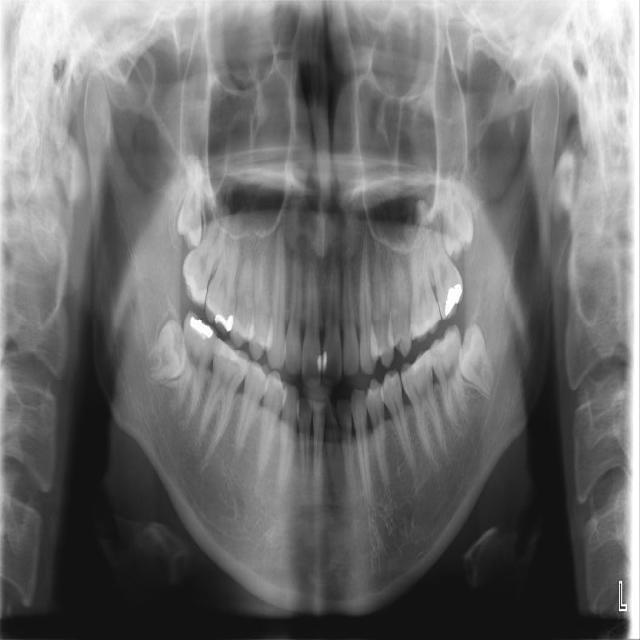Filling: (186, 313, 215, 344), (443, 281, 463, 318), (214, 313, 238, 329)
impacted tooth: (169, 160, 206, 249)
